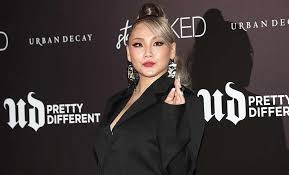asian_female: (116, 1, 199, 87)
